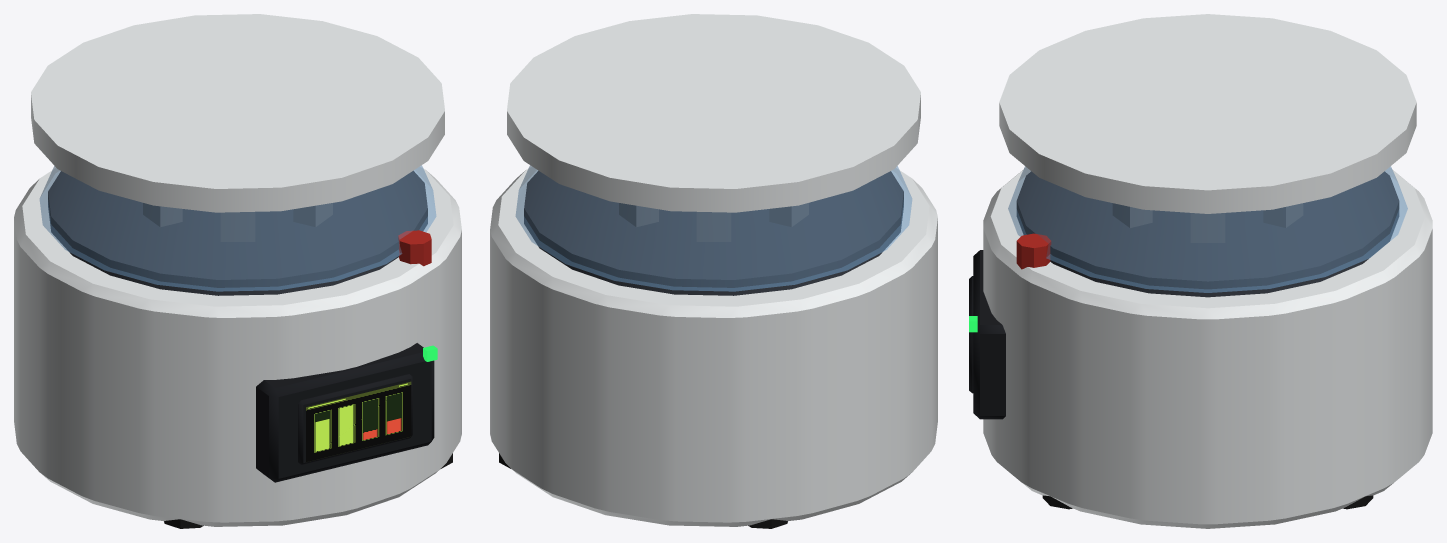
The model's file is analyzer_centrifuge.glb.
The picture shows the model from 3 angles, left to right: view 1: azimuth 30°, elevation 25°; view 2: azimuth 150°, elevation 25°; view 3: azimuth 270°, elevation 25°; orthographic projection.
Visible parts, largest first — view 1: analyzer_centrifuge; view 2: analyzer_centrifuge; view 3: analyzer_centrifuge.
Part boxes in pixels (box(x1,y1,x2,y2)): analyzer_centrifuge: box(14, 14, 461, 528); analyzer_centrifuge: box(490, 14, 937, 528); analyzer_centrifuge: box(969, 14, 1432, 528).
Size of the model in its own units: 0.5169 by 0.428 by 0.5364.
Materials: 10 (1 with a texture image).
